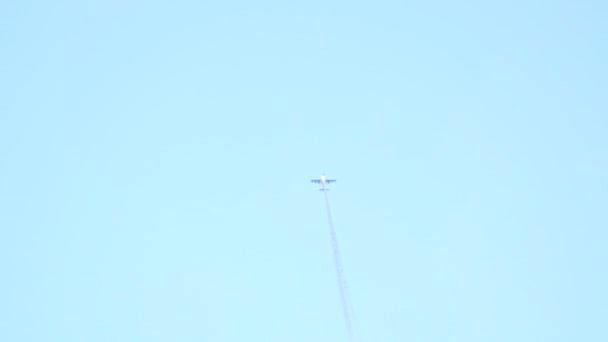Plane: (298, 169, 348, 193)
